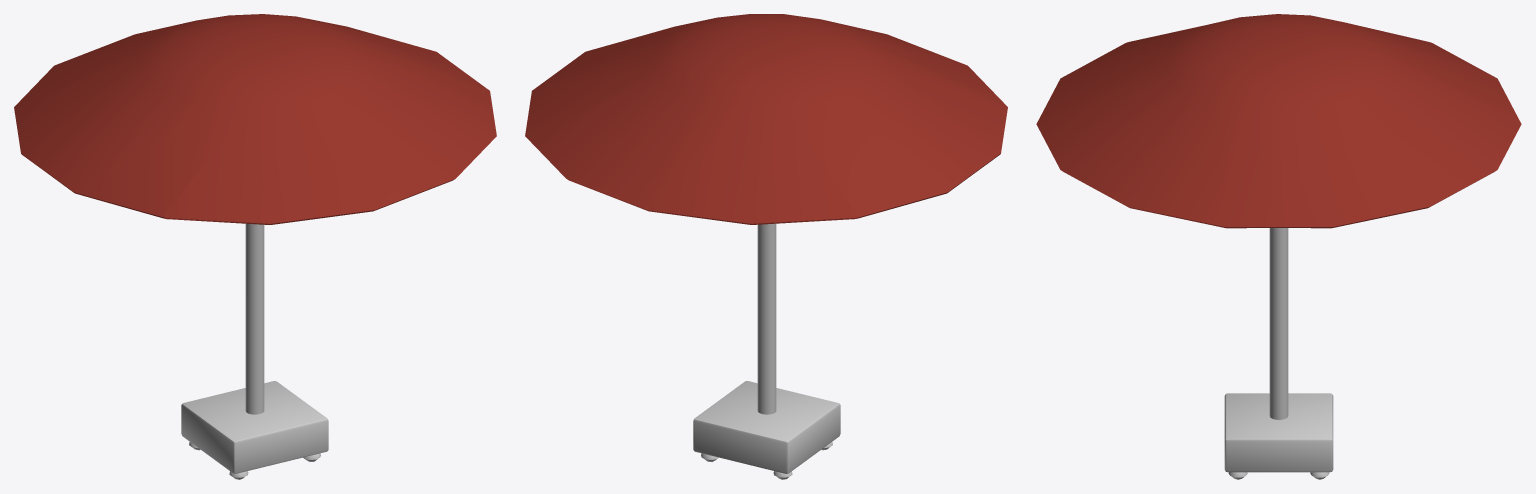
Rendered from Garden-Tent.fbx.
The picture shows the model from 3 angles, left to right: view 1: azimuth 30°, elevation 25°; view 2: azimuth 150°, elevation 25°; view 3: azimuth 270°, elevation 25°; orthographic projection.
Parts seen in each view (by area): view 1: Garden-Tent; view 2: Garden-Tent; view 3: Garden-Tent.
Boxes of the visible parts, x1,y1,x2,y2 form: Garden-Tent: [14, 14, 496, 479]; Garden-Tent: [525, 14, 1007, 479]; Garden-Tent: [1036, 14, 1521, 479].
Size of the model in its own units: 4 by 3.79 by 4.
